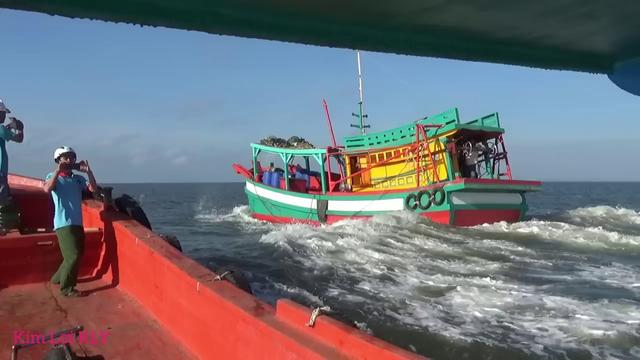Ship: (240, 120, 545, 237)
